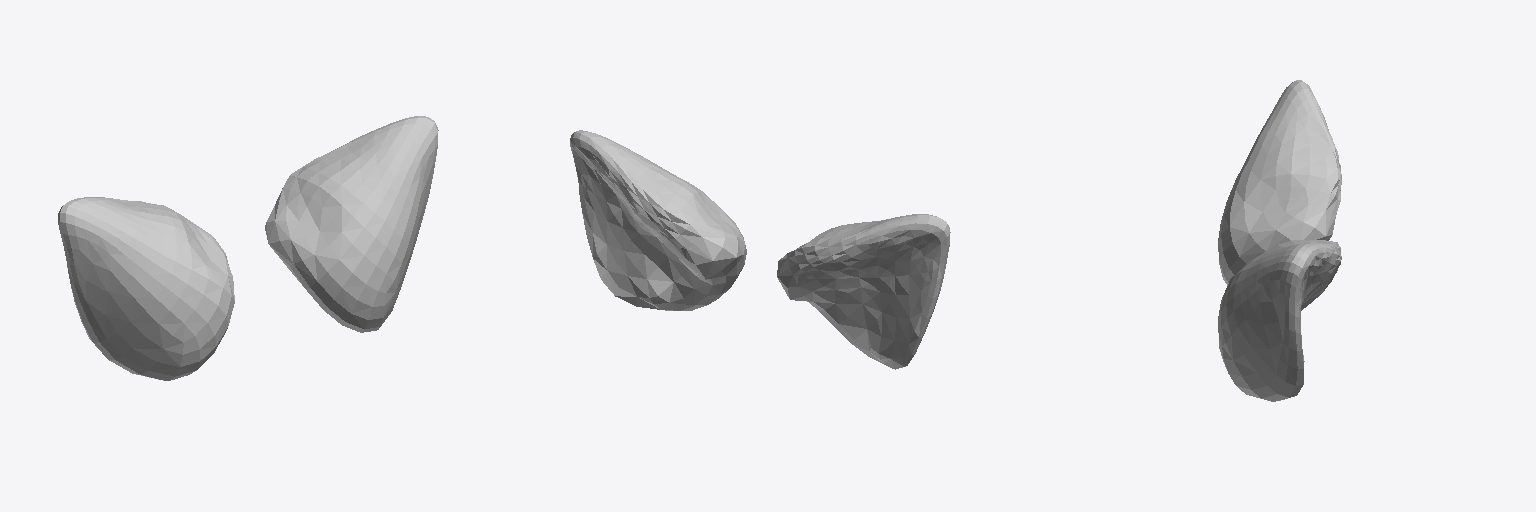
File: ears.obj
3 views of the same model, side by side, from view 1: azimuth 30°, elevation 25°; view 2: azimuth 150°, elevation 25°; view 3: azimuth 270°, elevation 25° (orthographic).
Visible parts, largest first — view 1: cube19, cube19_copy21; view 2: cube19_copy21, cube19; view 3: cube19, cube19_copy21.
Part boxes in pixels (x1,y1,x2,y2): cube19: (58,197,234,380); cube19_copy21: (265,116,438,332); cube19_copy21: (570,130,746,310); cube19: (777,214,950,369); cube19: (1218,80,1341,285); cube19_copy21: (1218,240,1341,401).
Size of the model in its own units: 21.16 by 9.55 by 6.01.